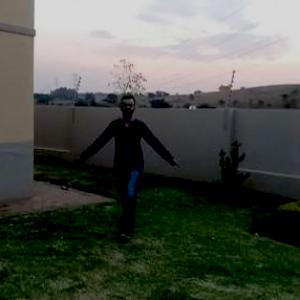land: (84, 97, 172, 222)
